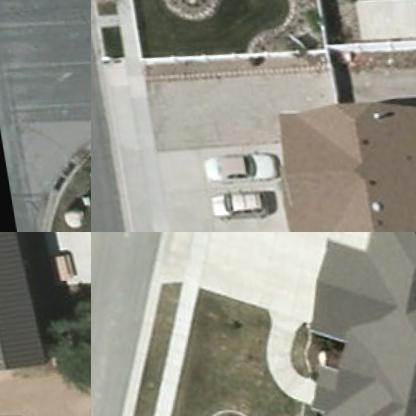car: (196, 143, 282, 191), (207, 188, 264, 224)
